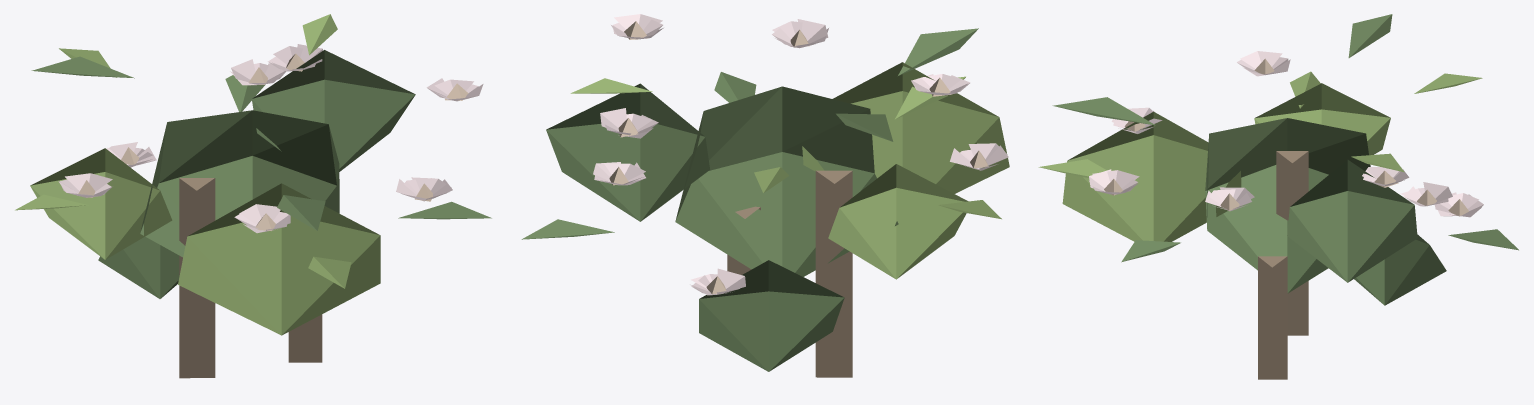
The model's file is nong.da@flowering__summer.glb.
3 views of the same model, side by side, from view 1: azimuth 30°, elevation 25°; view 2: azimuth 150°, elevation 25°; view 3: azimuth 270°, elevation 25° (orthographic). The views are drawn at different scales.
Parts seen in each view (by area): view 1: nong.da@flowering__summer; view 2: nong.da@flowering__summer; view 3: nong.da@flowering__summer.
Part boxes in pixels (bbox=[...]): nong.da@flowering__summer: bbox=[15, 14, 491, 378]; nong.da@flowering__summer: bbox=[521, 14, 1009, 377]; nong.da@flowering__summer: bbox=[1038, 14, 1518, 379].
Bounding box in the file's own units: 1.41 × 0.966 × 1.51.
